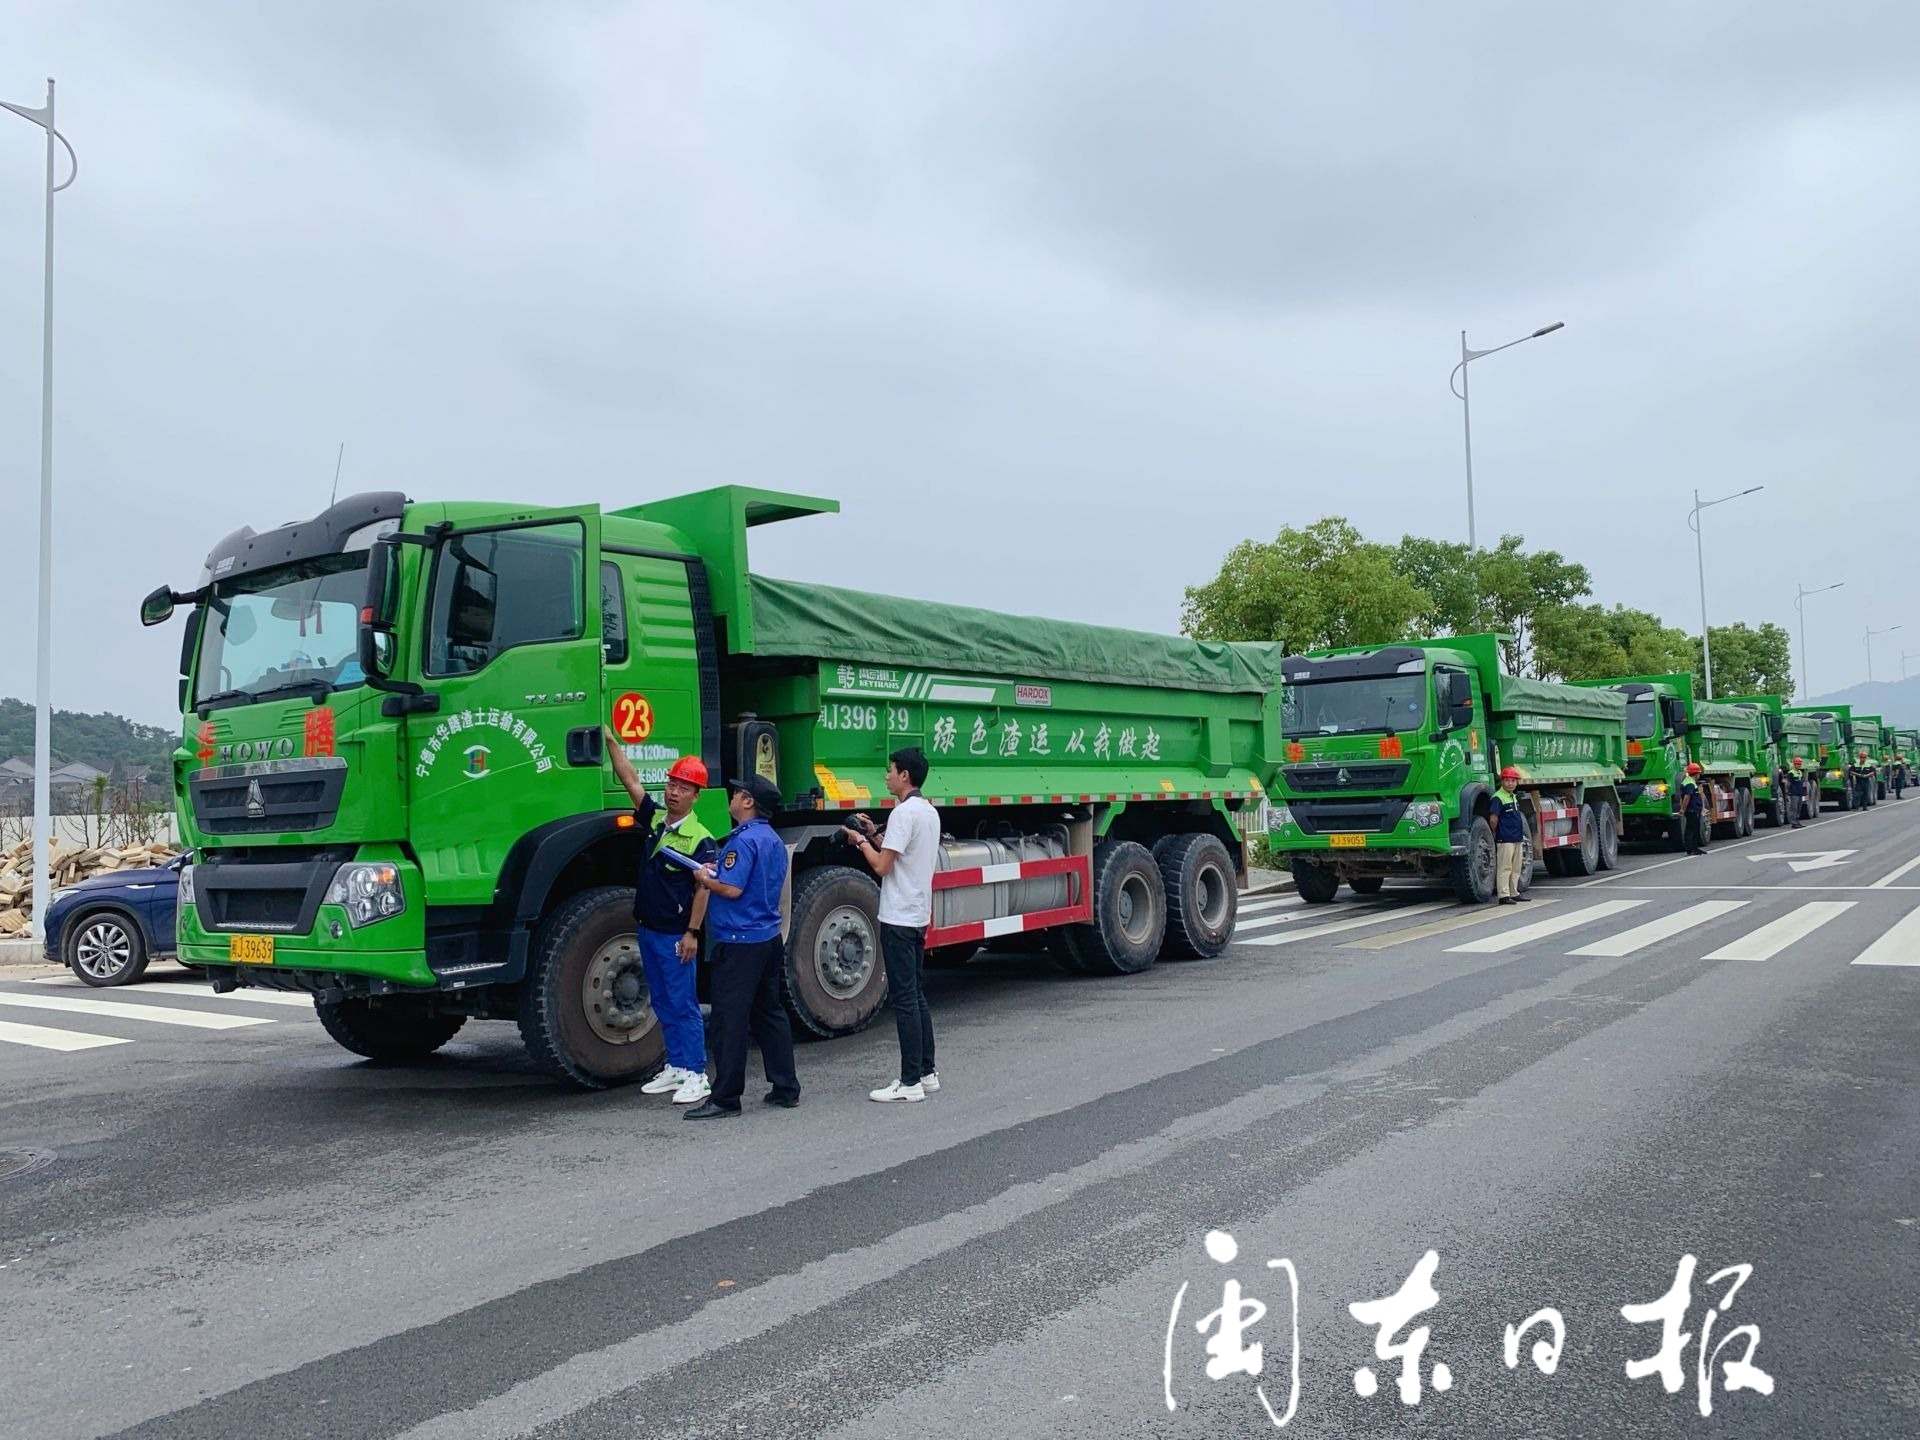garbagetruck: (74, 151, 413, 348)
